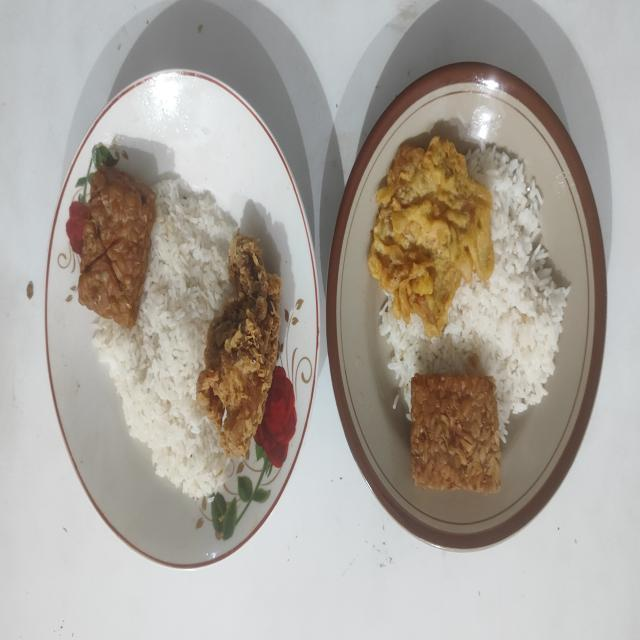nasi_putih: (380, 145, 570, 442), (93, 180, 237, 500)
tempe_goreng: (78, 164, 156, 328), (410, 373, 500, 492)
